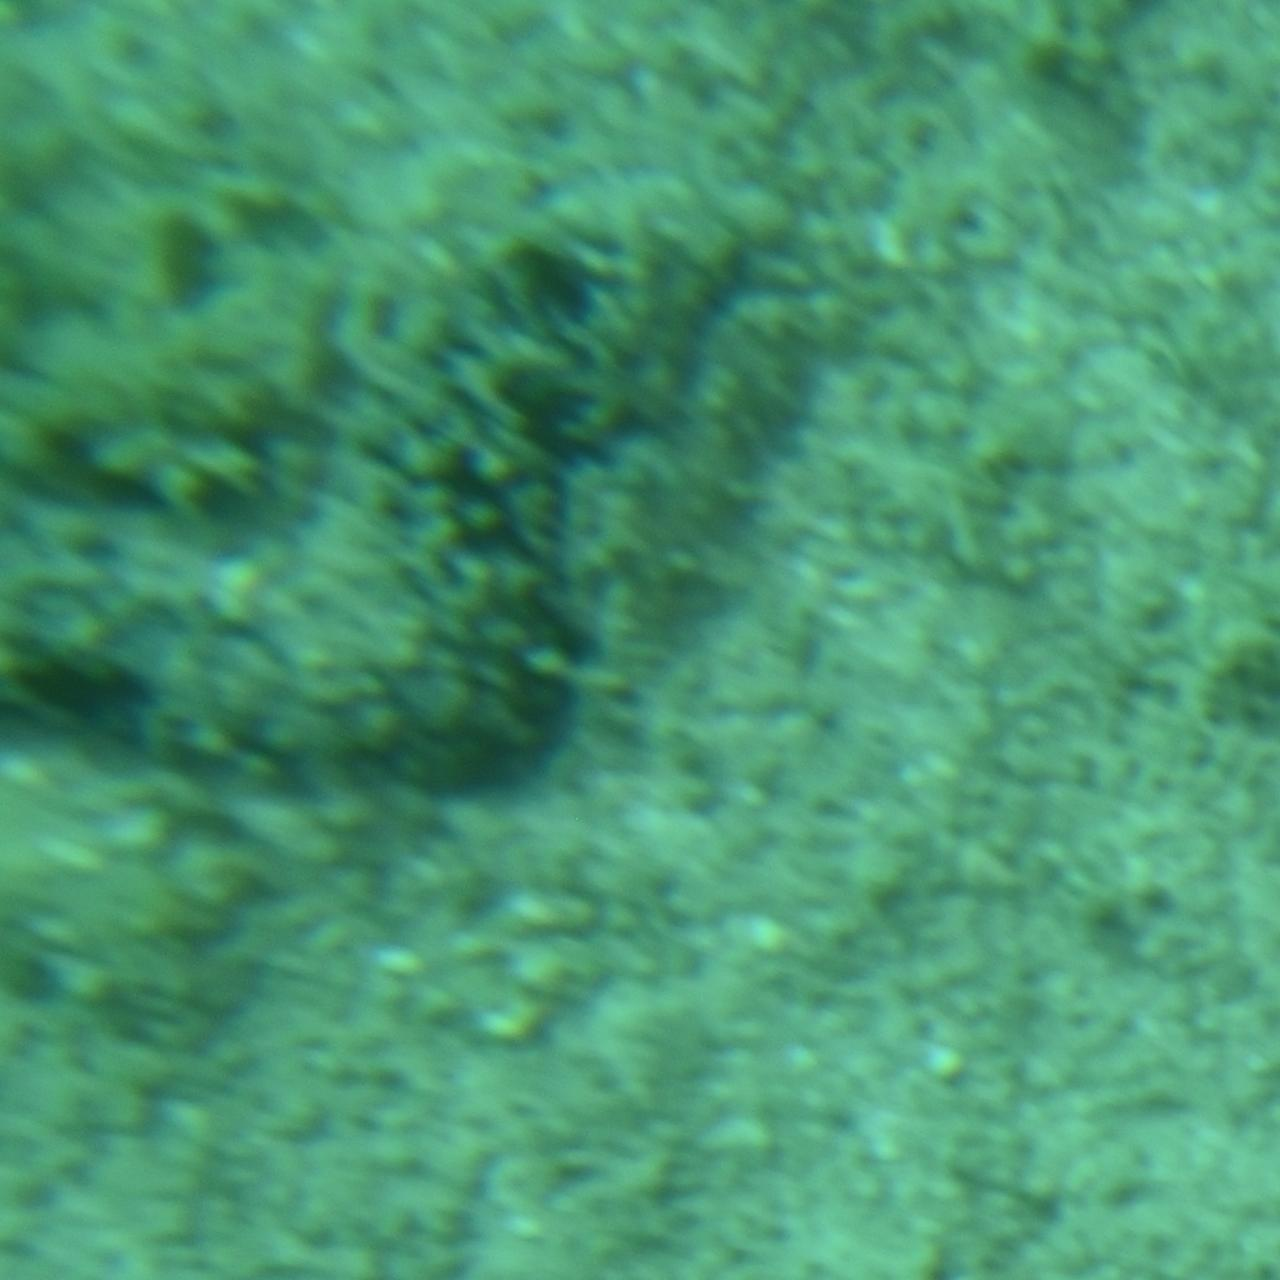Holothuria tubulosa: (0, 150, 745, 791)
